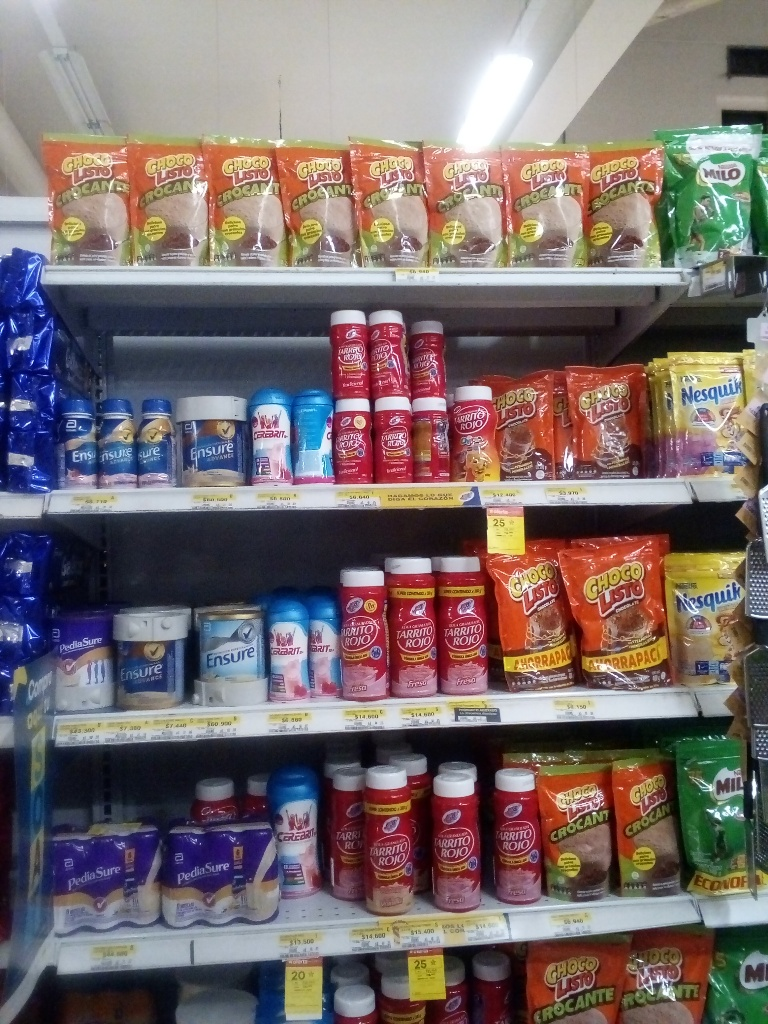COL0170102DYP25000: (41, 130, 135, 266)
COL0170103DYP20000: (491, 369, 556, 478)
COL0170103DYP40000: (486, 539, 585, 694)
COL0170305DYP20000: (670, 351, 752, 478)
COL0170306DYP20000: (665, 551, 751, 686)
